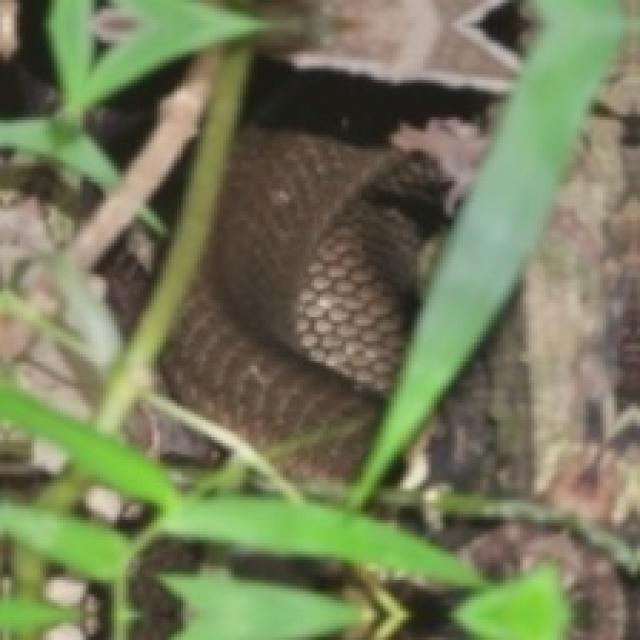king cobra: (163, 126, 446, 477)
